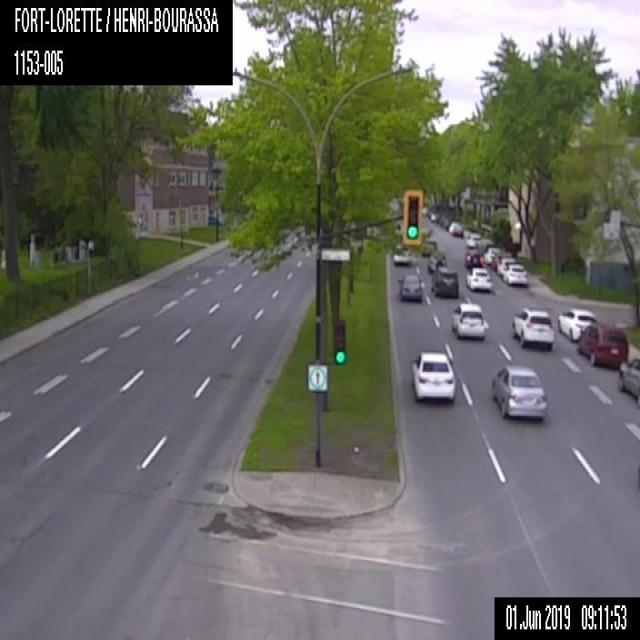vehicle: (489, 361, 547, 423), (408, 349, 456, 404), (580, 320, 628, 366), (512, 303, 554, 347), (449, 300, 486, 340), (617, 351, 639, 405), (558, 307, 596, 337), (431, 265, 458, 297), (395, 272, 422, 300), (465, 266, 492, 290), (505, 264, 529, 284), (496, 256, 516, 276), (490, 250, 510, 270), (391, 247, 413, 265), (465, 248, 483, 269), (427, 251, 445, 271), (482, 247, 501, 265), (421, 238, 437, 256), (464, 232, 481, 248), (452, 224, 463, 236), (448, 220, 458, 232)
